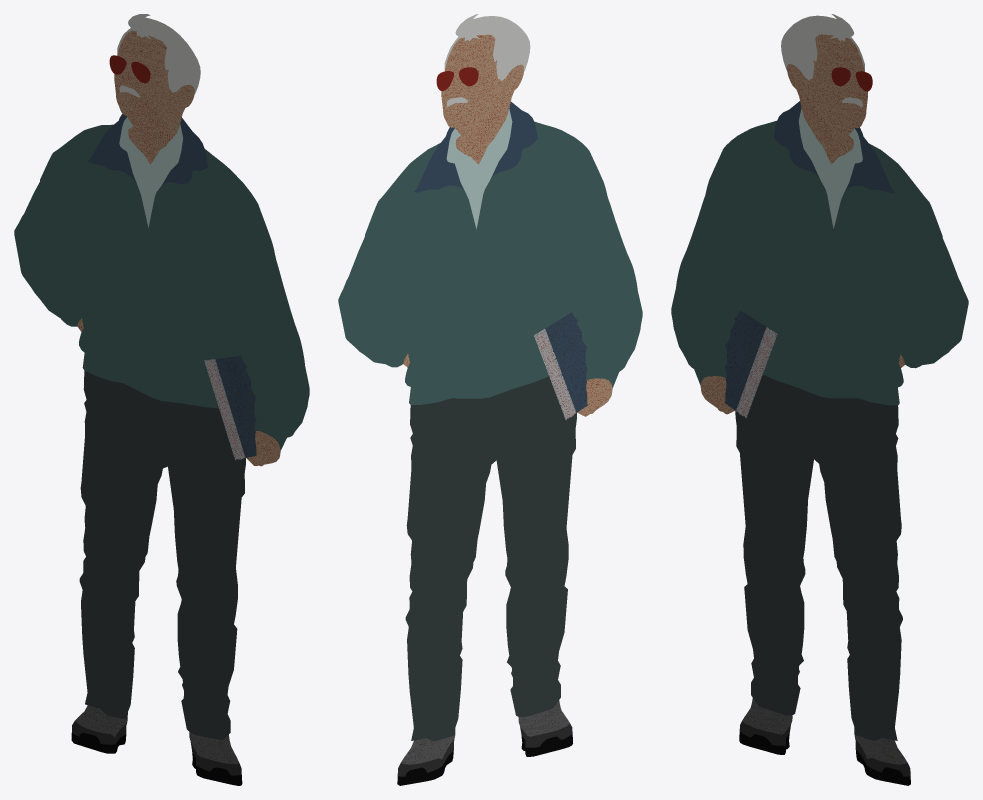
The model's file is Steve.dae.
3 views of the same model, side by side, from view 1: azimuth 90°, elevation 25°; view 2: azimuth 150°, elevation 25°; view 3: azimuth 270°, elevation 25° (orthographic).
Visible parts, largest first — view 1: Steve (×14); view 2: Steve (×14); view 3: Steve (×15).
Part boxes in pixels (<box>): Steve (×14): <box>14,14,309,785</box>; Steve (×14): <box>338,14,642,785</box>; Steve (×15): <box>671,14,968,785</box>.
Bounding box in the file's own units: 14.34 × 23.83 × 66.71.
